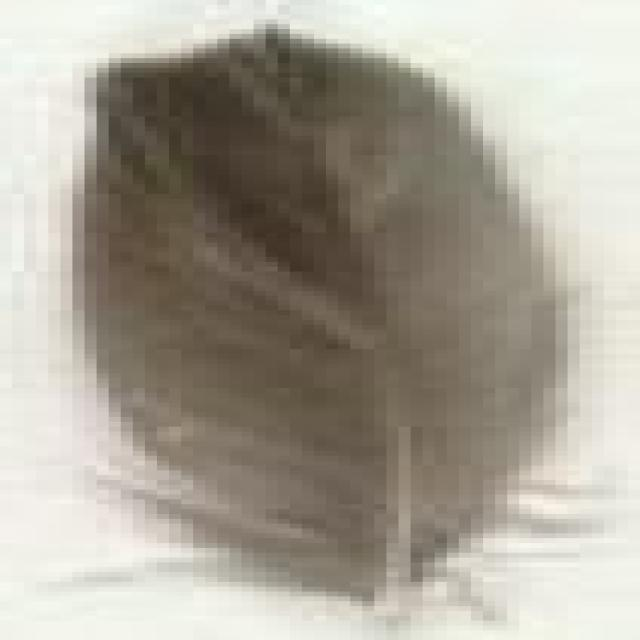feather: (66, 26, 607, 640)
